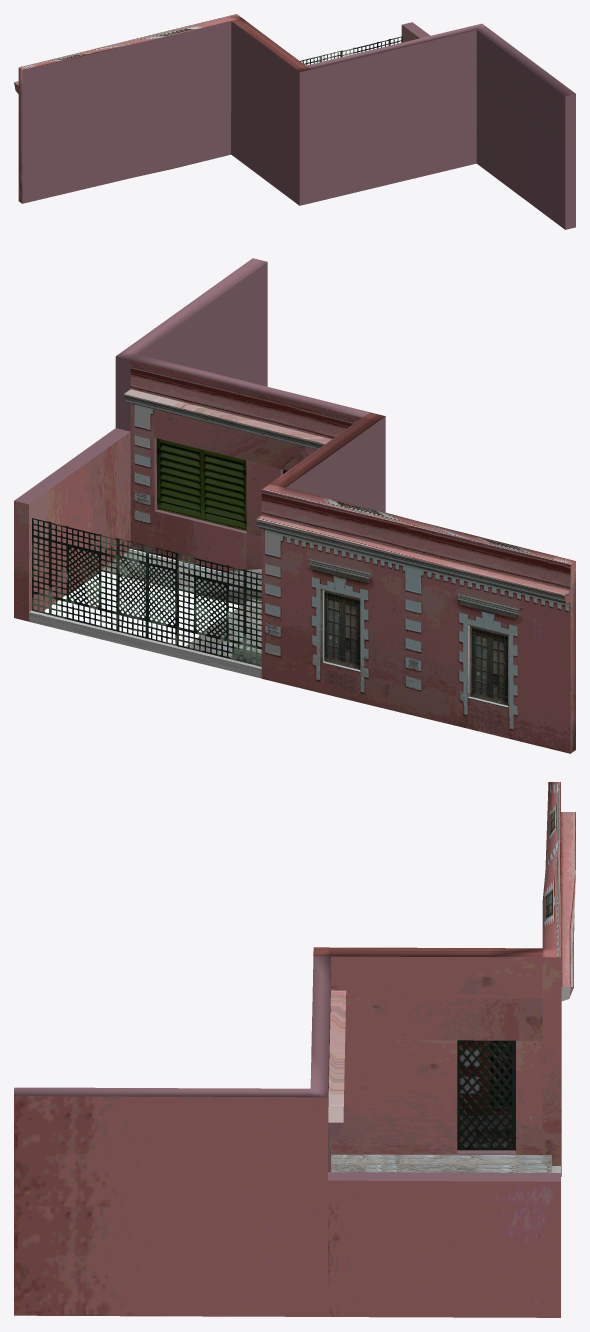
Rendered from Casa_Marcelo T Alver_Reja Y TODO .fbx.
The picture shows the model from 3 angles, top to bottom: view 1: azimuth 30°, elevation 25°; view 2: azimuth 150°, elevation 25°; view 3: azimuth 270°, elevation 25°; orthographic projection. The views are drawn at different scales.
Parts seen in each view (by area): view 1: pared02.007, Reja_MarceloTAlvear; view 2: pared02.007, Reja_MarceloTAlvear, Cube.017, Cube.006; view 3: pared02.007, Cube.017.
Boxes of the visible parts, left/top/right/bottom form: pared02.007: left=14, top=14, right=575, bottom=229; Reja_MarceloTAlvear: left=300, top=36, right=402, bottom=65; pared02.007: left=14, top=258, right=575, bottom=753; Reja_MarceloTAlvear: left=32, top=518, right=261, bottom=666; Cube.017: left=102, top=549, right=261, bottom=664; Cube.006: left=29, top=610, right=261, bottom=678; pared02.007: left=14, top=782, right=575, bottom=1317; Cube.017: left=331, top=1154, right=551, bottom=1172.
Bounding box in the file's own units: 39.31 × 12.75 × 29.54.
